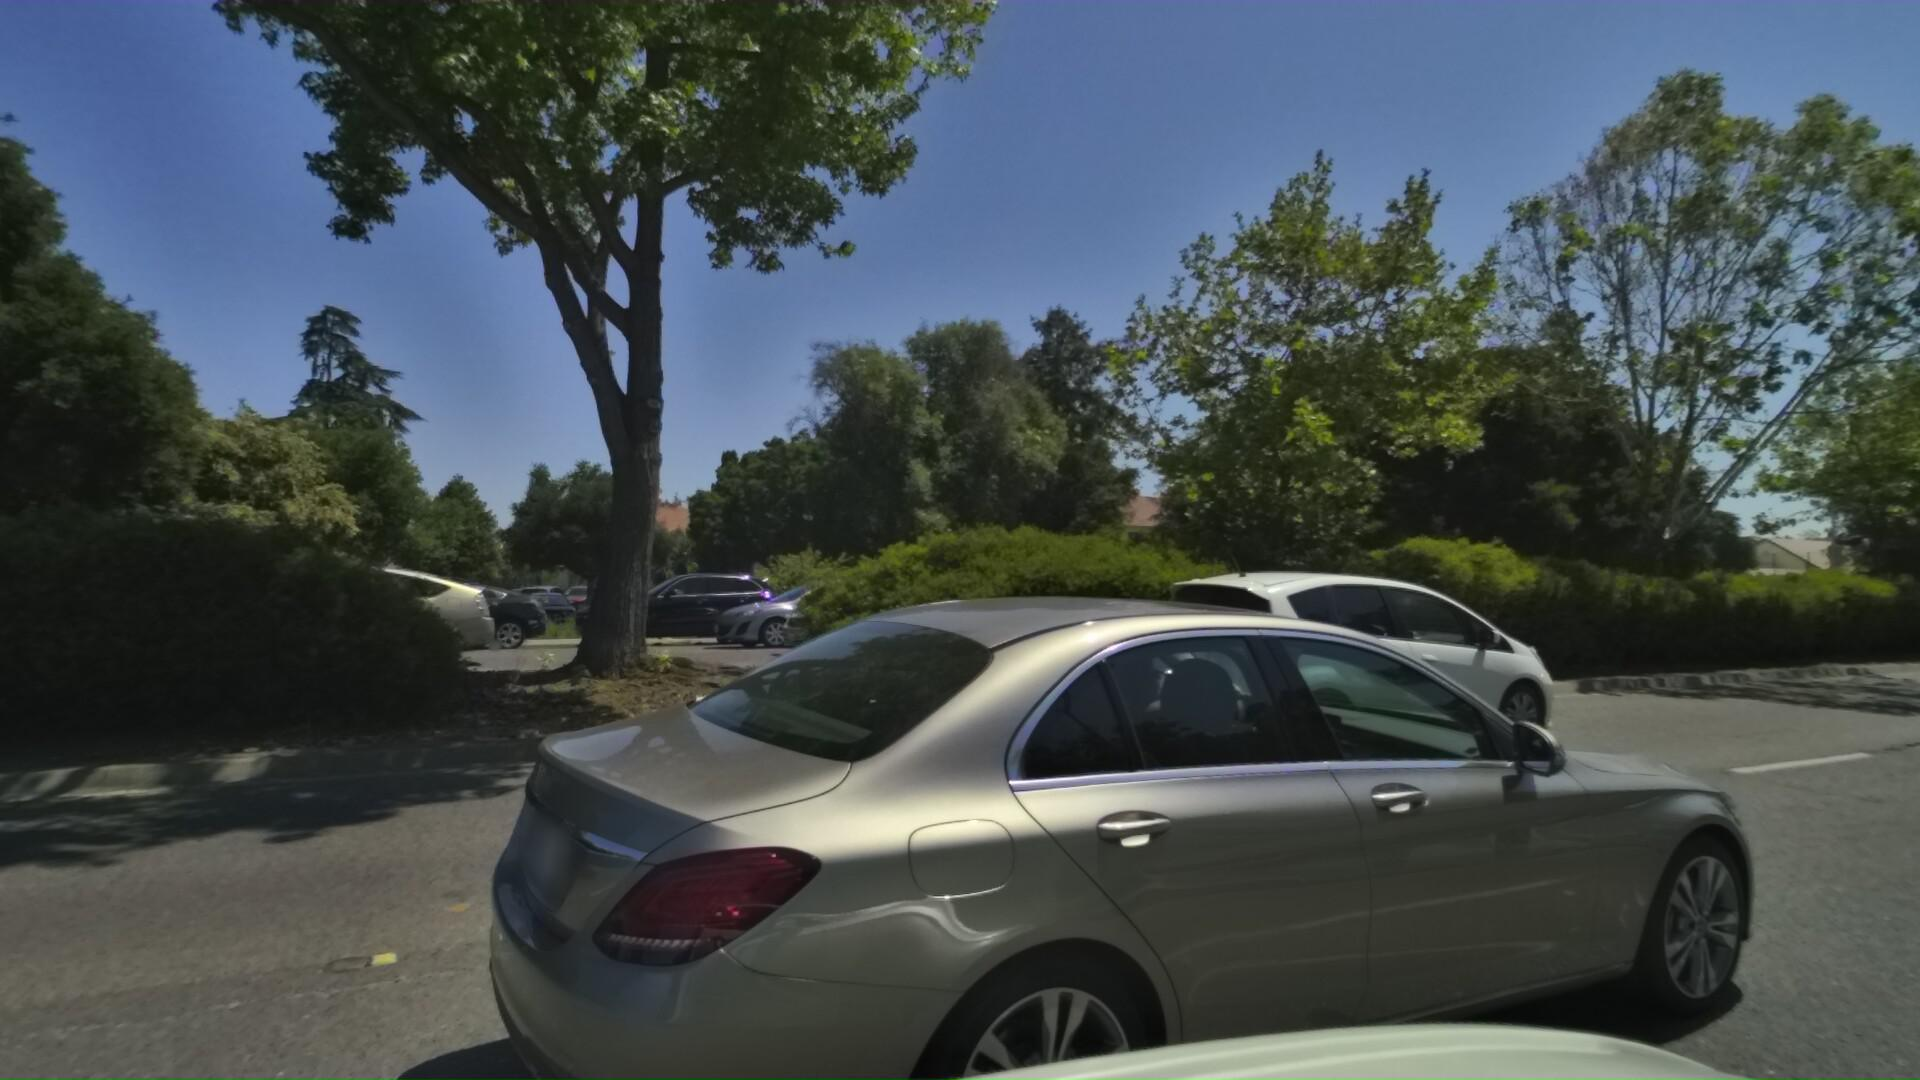car: (386, 570, 1844, 1080), (1114, 549, 1613, 777), (11, 555, 436, 678), (266, 579, 527, 673), (537, 571, 765, 658), (659, 567, 889, 646)
